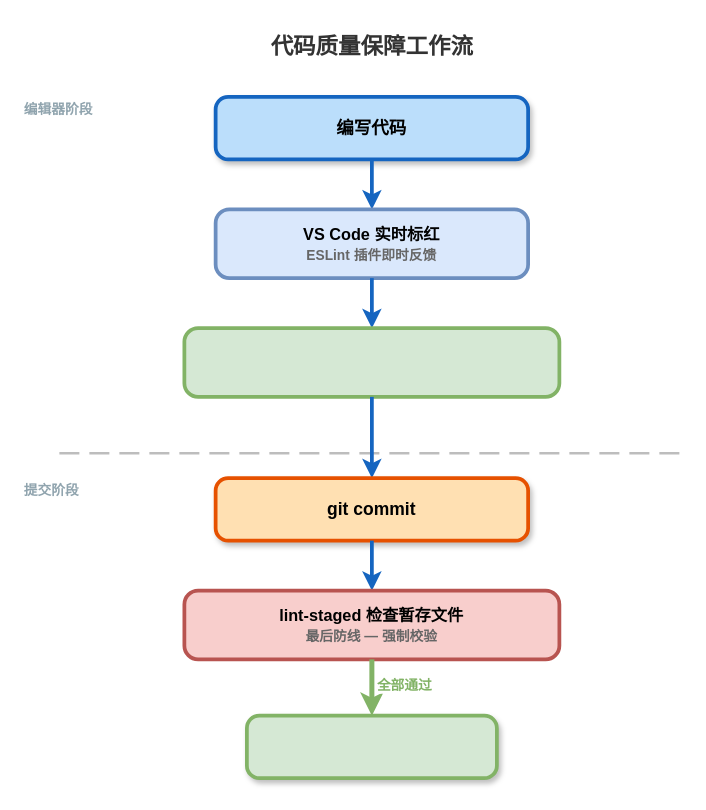
The diagram is 706 pixels wide and 810 high, and some of its shapes have lost their labels. Here are the shapes that lost their labels. From the top down, the centre of each, then its label:
point (371, 362): Ctrl/Cmd + S 保存 formatOnSave + codeActionsOnSave 自动修复
point (372, 748): ✅ 提交成功
